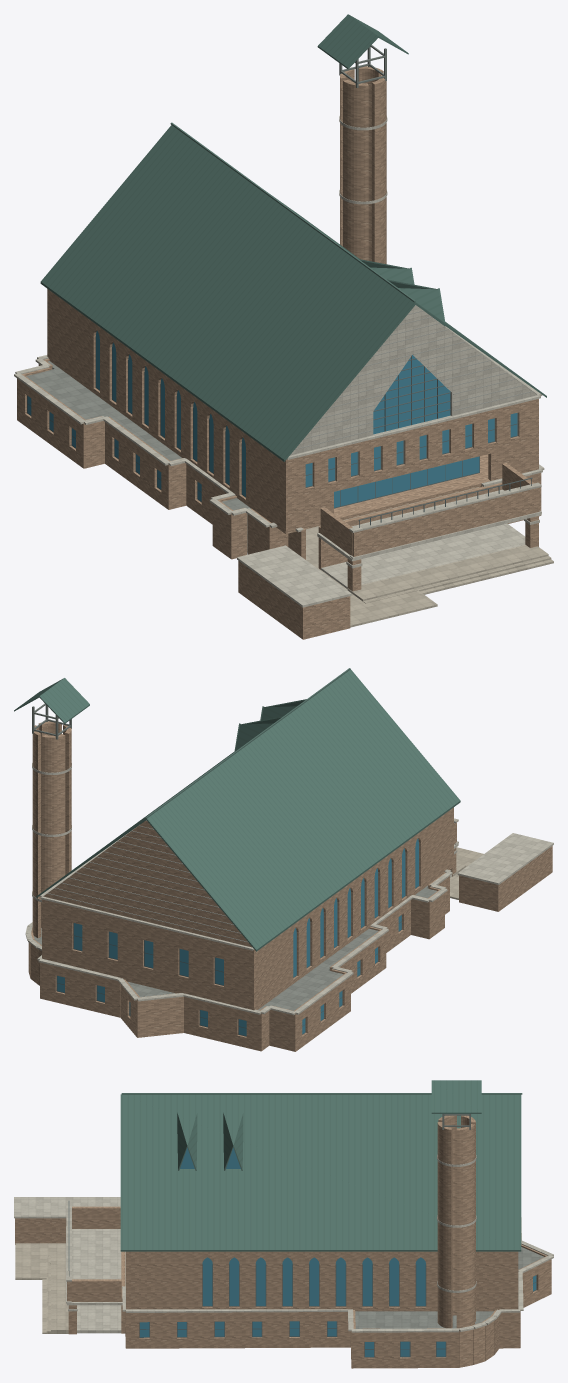
3 views of the same model, one above another, from view 1: azimuth 30°, elevation 25°; view 2: azimuth 150°, elevation 25°; view 3: azimuth 270°, elevation 25° (orthographic). The views are drawn at different scales.
Parts seen in each view (by area): view 1: chapel__greenRoof, chapel__tanbrick, chapel__paleStone, chapel__chapelglass, chapel__frame, chapel__roof, chapel__stone, chapel__threshold-main, chapel__stair-main, chapel__stoneJoint, chapel__standingSeam; view 2: chapel__tanbrick, chapel__greenRoof, chapel__paleStone, chapel__chapelglass, chapel__roof, chapel__stoneJoint, chapel__frame, chapel__standingSeam, chapel__stone, chapel__towersteel; view 3: chapel__greenRoof, chapel__tanbrick, chapel__paleStone, chapel__chapelglass, chapel__roof, chapel__frame, chapel__stone, chapel__stair-main, chapel__threshold-main, chapel__standingSeam.
Part boxes in pixels (box(x1,y1,x2,y2)): chapel__greenRoof: box(40, 14, 546, 461); chapel__tanbrick: box(17, 66, 541, 639); chapel__paleStone: box(14, 116, 544, 607); chapel__chapelglass: box(27, 317, 517, 507); chapel__frame: box(27, 336, 532, 527); chapel__roof: box(26, 361, 250, 510); chapel__stone: box(247, 487, 478, 627); chapel__threshold-main: box(347, 545, 545, 599); chapel__stair-main: box(360, 552, 553, 603); chapel__stoneJoint: box(295, 310, 532, 449); chapel__standingSeam: box(170, 122, 445, 322); chapel__tanbrick: box(28, 721, 552, 1051); chapel__greenRoof: box(14, 669, 460, 951); chapel__paleStone: box(25, 763, 553, 1015); chapel__chapelglass: box(57, 838, 418, 1035); chapel__roof: box(34, 885, 436, 1010); chapel__stoneJoint: box(47, 820, 248, 942); chapel__frame: box(56, 843, 419, 1036); chapel__standingSeam: box(145, 668, 350, 818); chapel__stone: box(450, 847, 483, 899); chapel__towersteel: box(32, 703, 71, 739); chapel__greenRoof: box(120, 1080, 521, 1251); chapel__tanbrick: box(15, 1115, 551, 1368); chapel__paleStone: box(14, 1155, 553, 1333); chapel__chapelglass: box(140, 1148, 536, 1356); chapel__roof: box(355, 1247, 543, 1328); chapel__frame: box(68, 1201, 536, 1357); chapel__stone: box(15, 1243, 125, 1286); chapel__stair-main: box(42, 1255, 55, 1333); chapel__threshold-main: box(55, 1255, 68, 1333); chapel__standingSeam: box(121, 1093, 522, 1170).
Bounding box in the file's own units: 35.66 × 32.03 × 56.33.
Materials: 10 (5 with a texture image).
